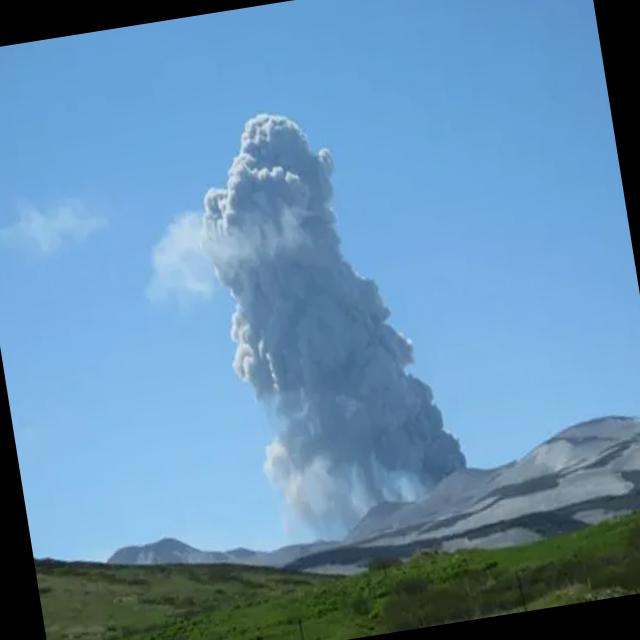Smoke: (185, 91, 472, 532)
